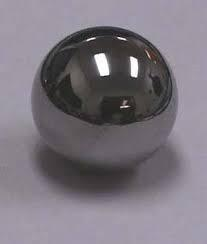steelball: (28, 22, 180, 191)
